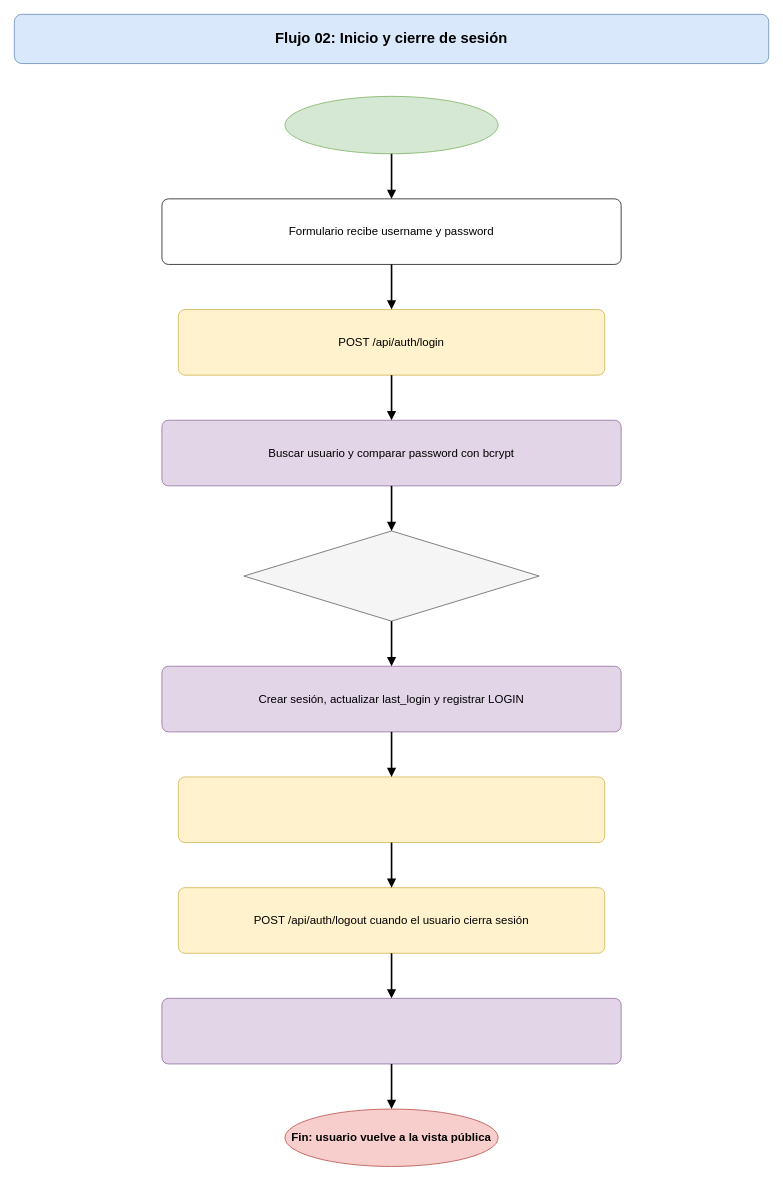
Some shapes in this 783 by 1181 pixel diagram are drawn without their labels. Here are the shapes that lost their labels. From the top down, the centre of each, then its label:
At (x=391, y=125): "Inicio: usuario abre /login".
At (x=391, y=575): "Validar estado Activo o Pausa".
At (x=391, y=809): "GET /api/user/profile al entrar al dashboard".
At (x=391, y=1031): "Destruir sesión y registrar LOGOUT".
